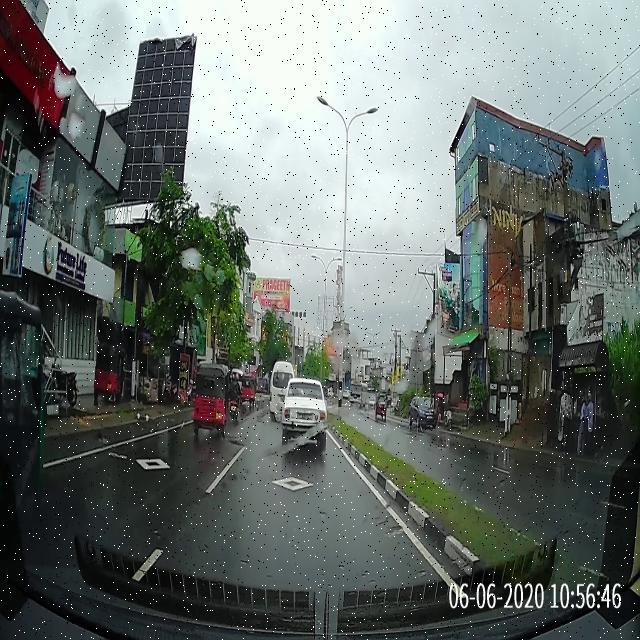diamond: (209, 473, 381, 495)
